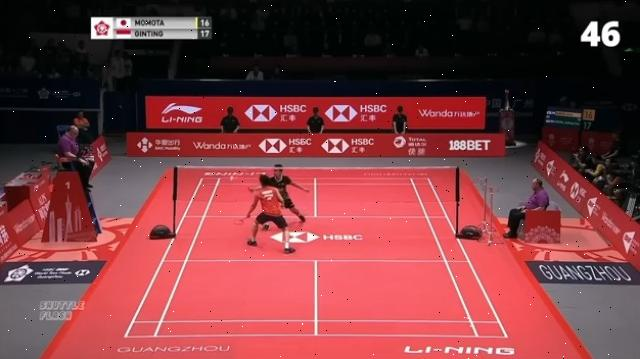Shuttlecock: (230, 174, 234, 182)
